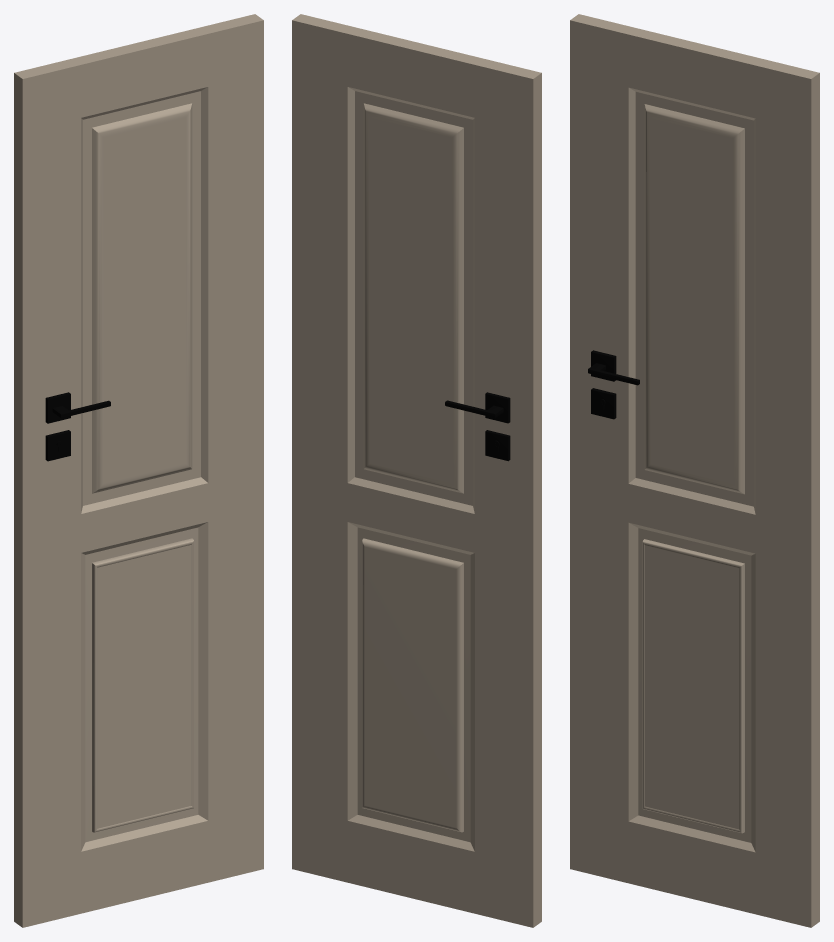
The model's file is RP_4_full1_door.glb.
The picture shows the model from 3 angles, left to right: view 1: azimuth 30°, elevation 25°; view 2: azimuth 150°, elevation 25°; view 3: azimuth 330°, elevation 25°; orthographic projection.
Parts seen in each view (by area): view 1: RP_4__1_door_; view 2: RP_4__1_door_; view 3: RP_4__1_door_.
Boxes of the visible parts, x1,y1,x2,y2 form: RP_4__1_door_: (14,14,263,927); RP_4__1_door_: (292,14,541,927); RP_4__1_door_: (570,14,819,927).
Bounding box in the file's own units: 0.523 × 1.76 × 0.1089.
1 material, 1 textured.
